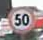limite 50: (8, 5, 37, 33)
